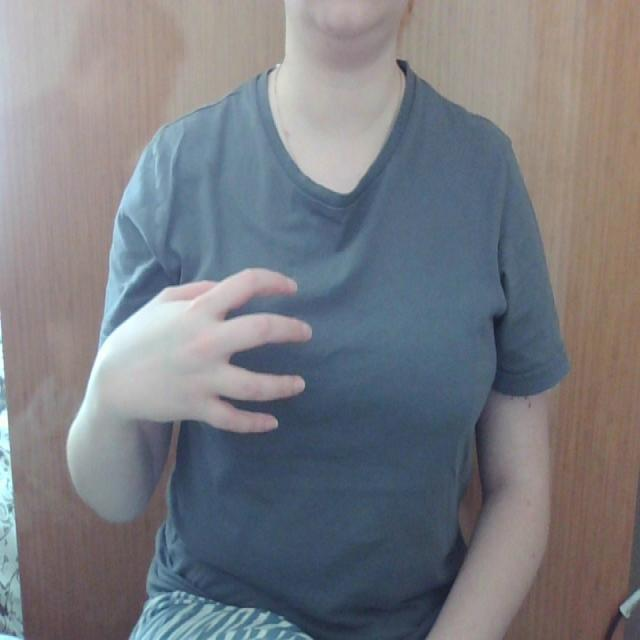Anne: (95, 206, 501, 480)
